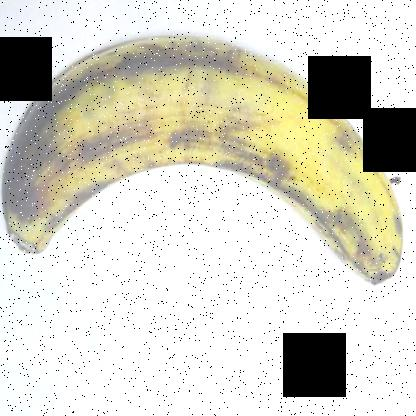overripe: (1, 26, 415, 303)
